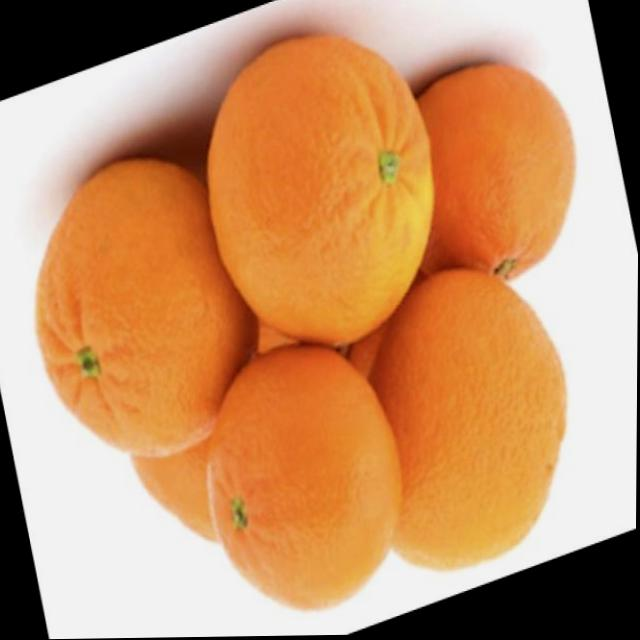Orange: (206, 33, 437, 351), (34, 156, 261, 462), (351, 268, 569, 576), (205, 345, 405, 616), (415, 63, 578, 285)
